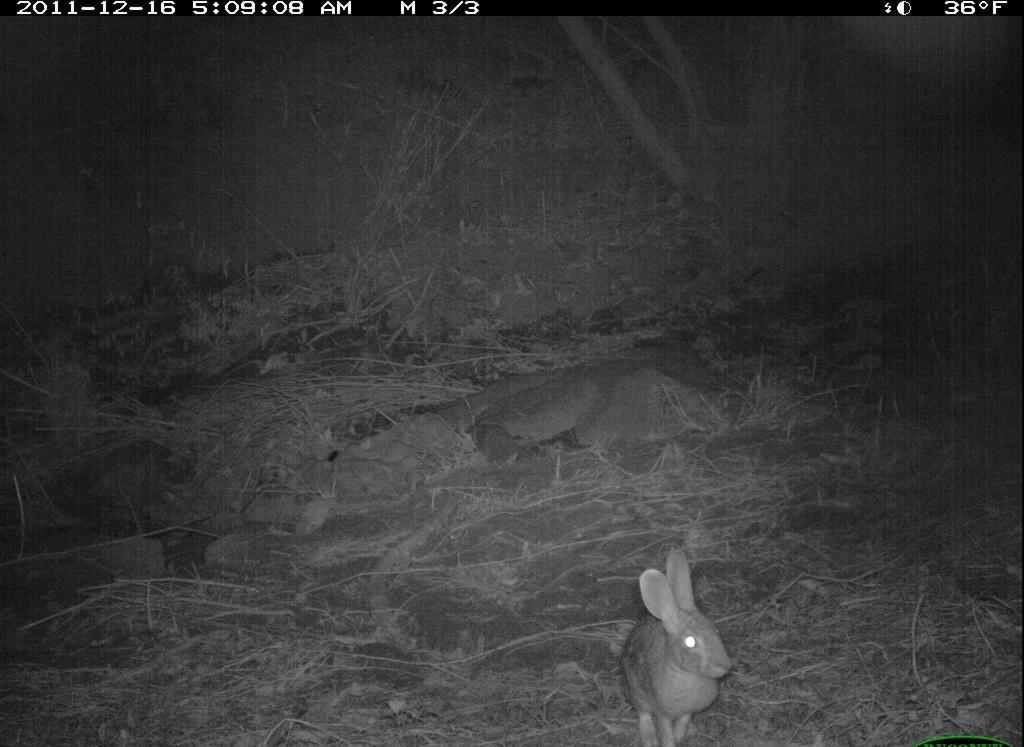rabbit: (616, 542, 742, 745)
